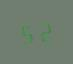five: (19, 21, 35, 44)
two: (36, 20, 52, 42)
